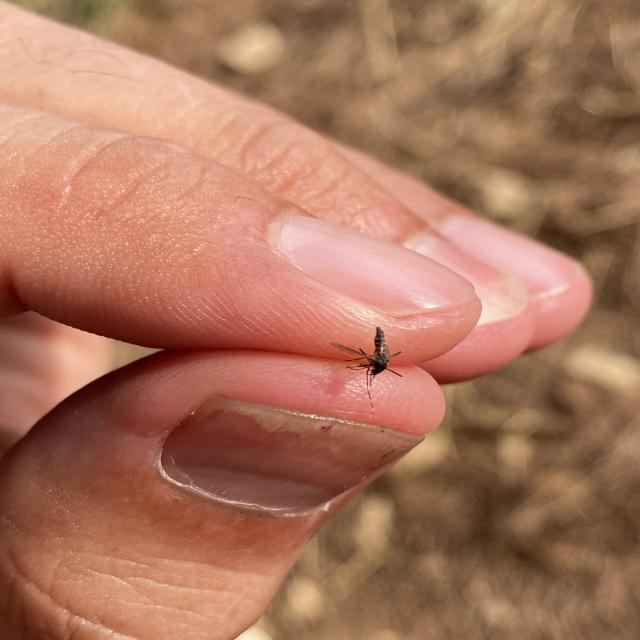albopictus: (334, 325, 406, 395)
